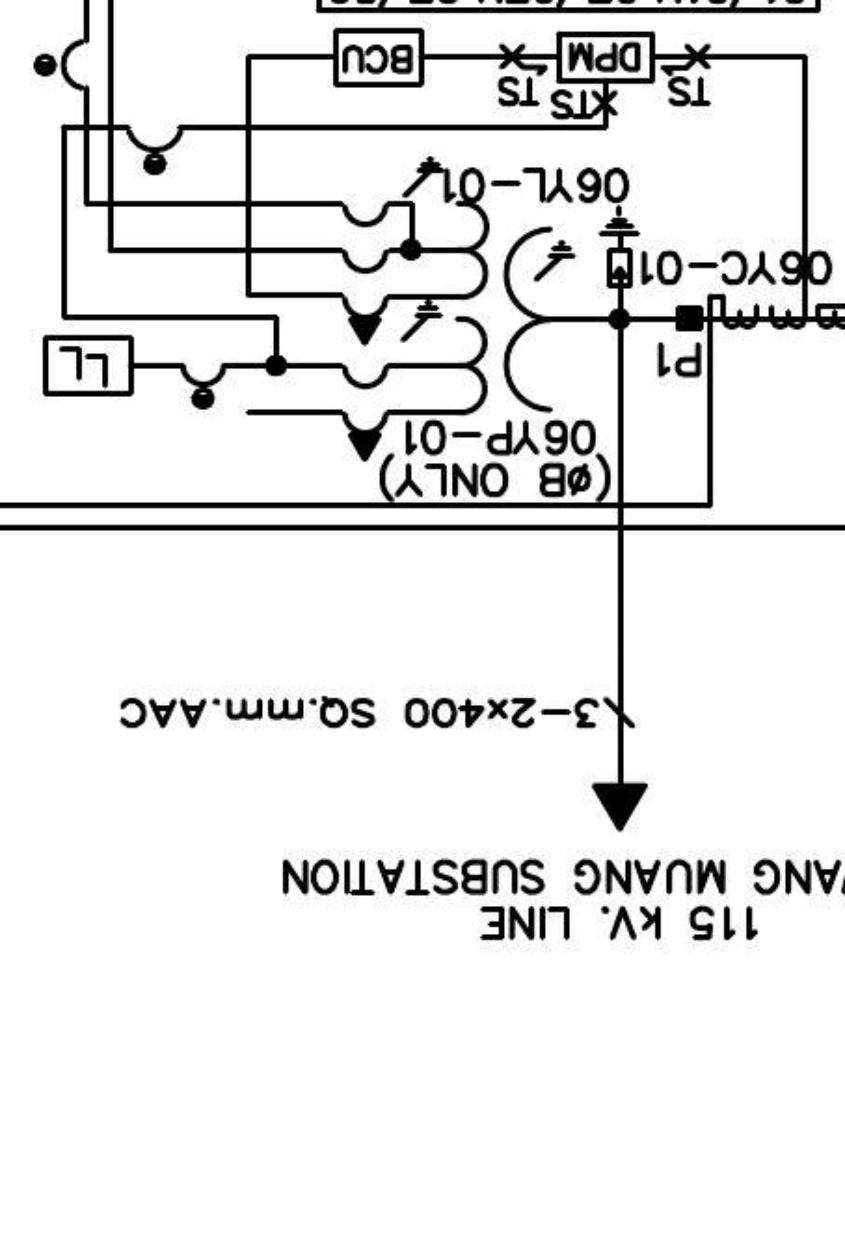115_la: (597, 204, 641, 289)
115_vt_1p: (338, 155, 578, 463)
BCU: (332, 27, 426, 89)
DPM: (556, 31, 656, 85)
LL: (42, 334, 135, 397)
